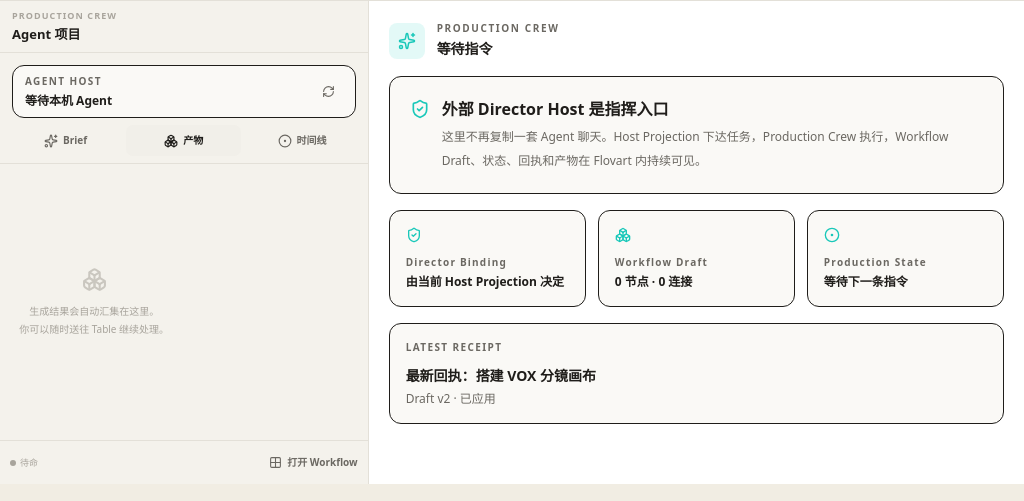
Test: Agent workspace › surfaces Agent edits in the shared canvas timeline
The width and height of the screenshot is (1024, 501).
Step 1. Click the button "时间线" → coordinates (302, 140), box [244,125,360,156]
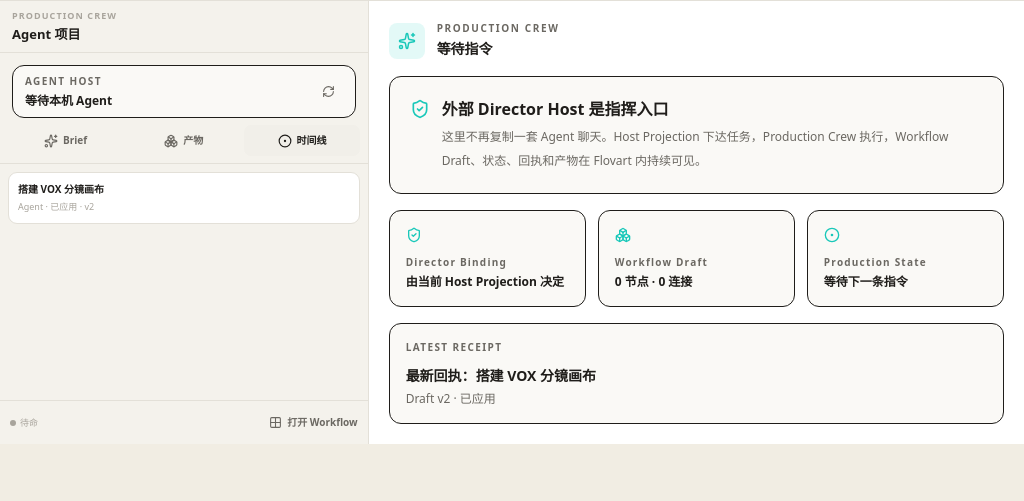
Result: the text "搭建 VOX 分镜画布" is shown at [18,182,104,196]
Result: the text "Agent · 已应用 · v2" is shown at [18,200,94,213]
